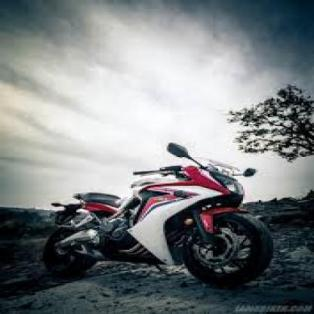Motocicleta: (37, 142, 283, 286)
